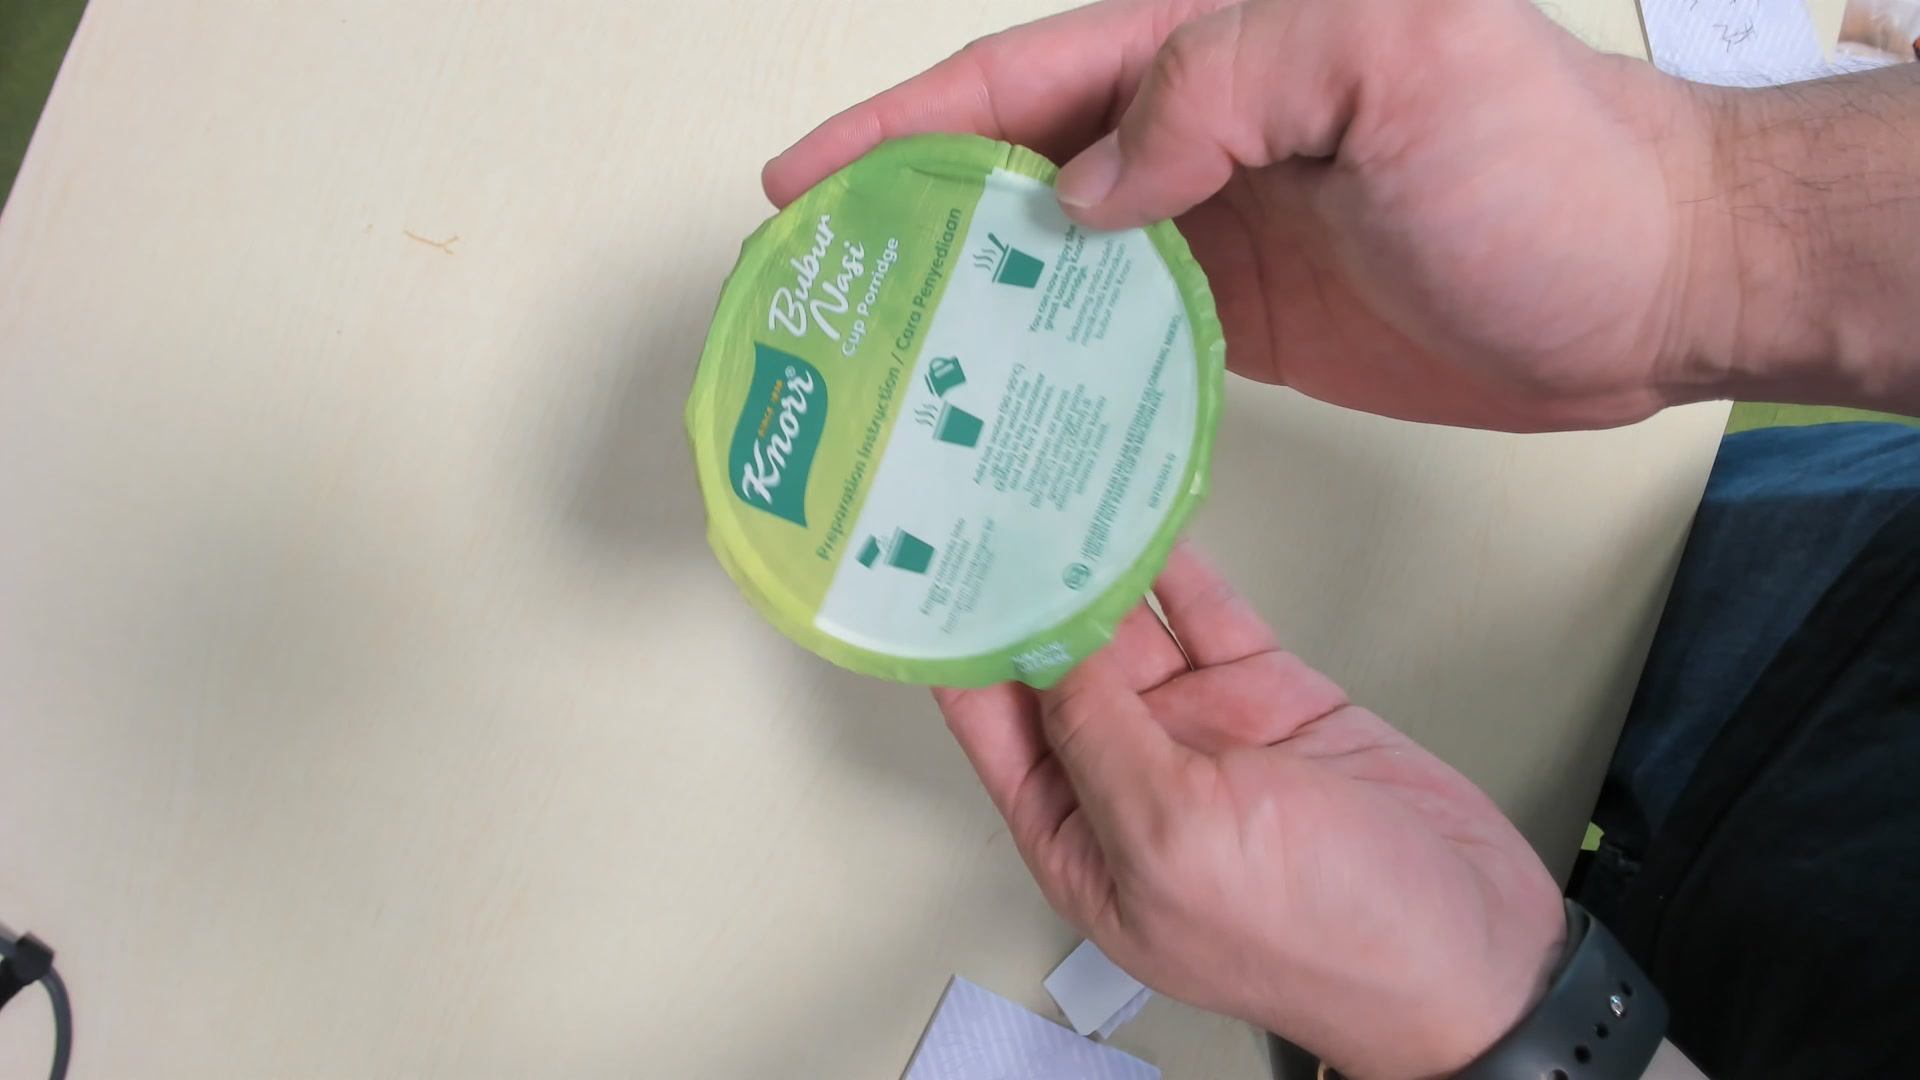InstantMeals_100-199g_Halal_NonHealthy: (694, 138, 1224, 680)
